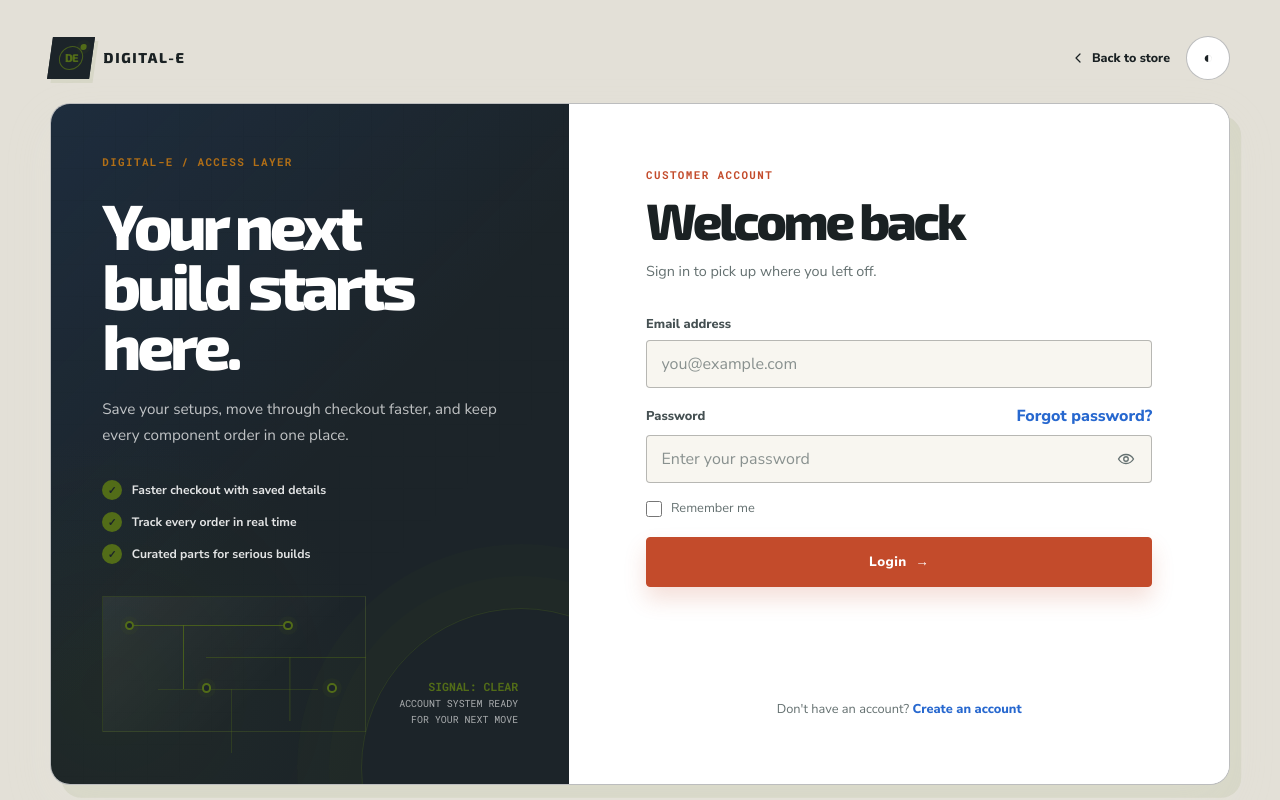
LoginPage Firebase errors › keeps the submit action available and focuses the first invalid field
This screenshot has width=1280, height=800.
Click the button "Login →".
click(899, 562)  # box x1=646 y1=537 x2=1152 y2=587
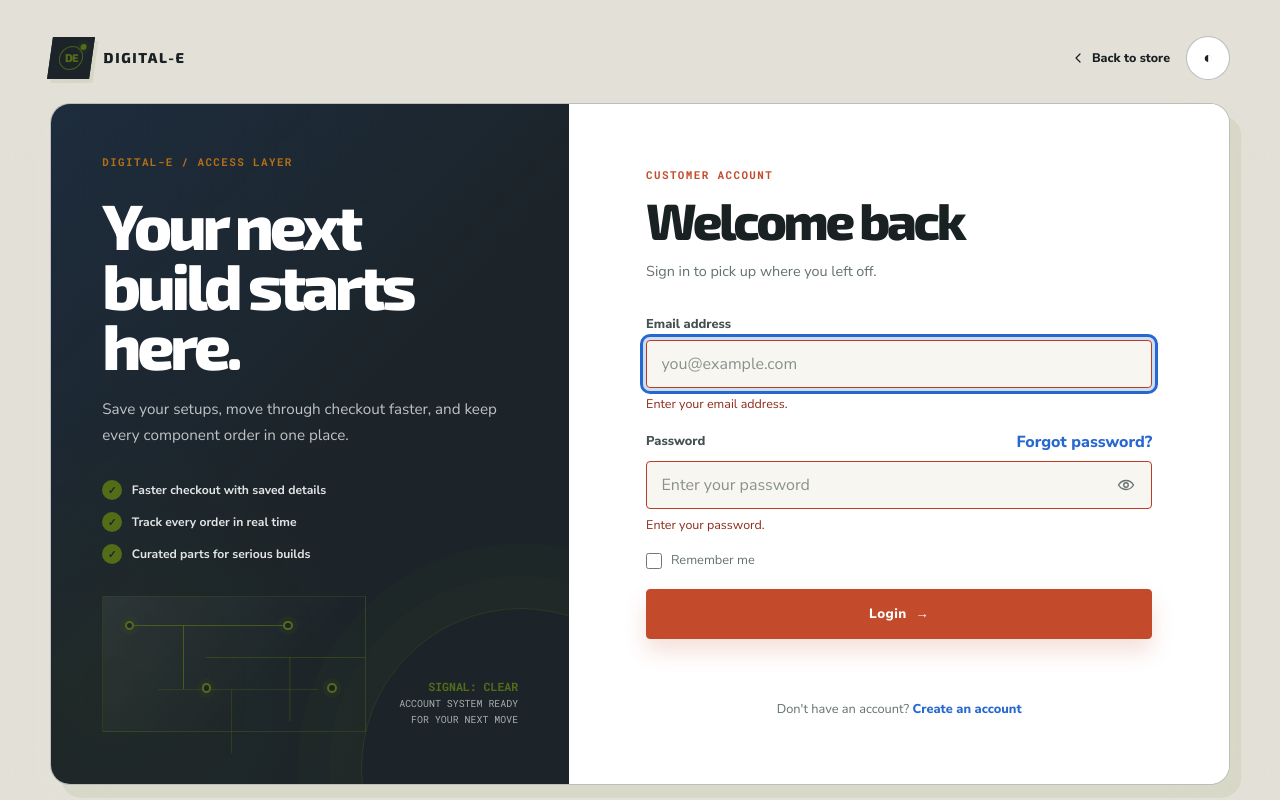
Result: the text "Enter your email address." is shown at x1=646 y1=395 x2=788 y2=412
